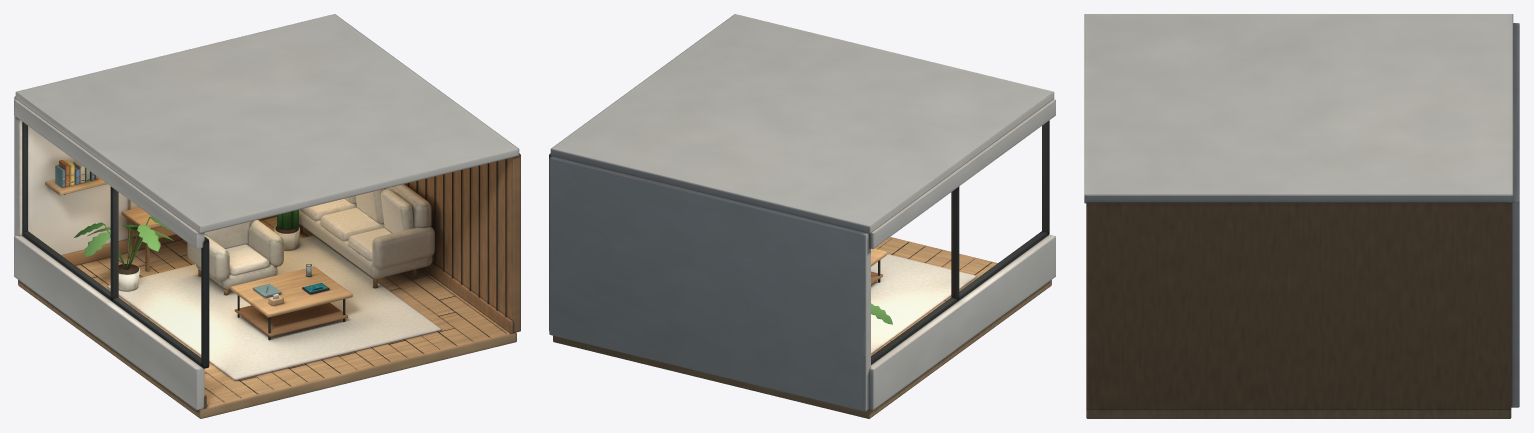
Rendered from consultorio.glb.
3 renders of one model, left to right at view 1: azimuth 30°, elevation 25°; view 2: azimuth 150°, elevation 25°; view 3: azimuth 270°, elevation 25°, orthographic. The views are drawn at different scales.
Parts seen in each view (by area): view 1: Techo - marfil, Alfombra central, Suelo - roble, Pared derecha - madera, Ventanal - antepecho, Pared posterior - marfil, Ventanal - perfileria negra, Ventanal - dintel, Mesa - sobre, Rodapies - roble, Pared derecha - juntas verticales, Sofa - brazo (+19 smaller); view 2: Techo - marfil, Pared posterior - marfil, Ventanal - antepecho, Suelo - roble, Alfombra central, Ventanal - perfileria negra, Ventanal - dintel; view 3: Pared derecha - madera, Techo - marfil, Suelo - roble, Pared posterior - marfil.
Part boxes in pixels (x1,y1,x2,y2): Techo - marfil: [15, 14, 519, 233]; Alfombra central: [107, 235, 441, 380]; Suelo - roble: [18, 216, 516, 418]; Pared derecha - madera: [404, 153, 520, 332]; Ventanal - antepecho: [14, 235, 204, 410]; Pared posterior - marfil: [14, 96, 137, 255]; Ventanal - perfileria negra: [22, 122, 209, 368]; Ventanal - dintel: [14, 99, 204, 248]; Mesa - sobre: [230, 266, 352, 317]; Rodapies - roble: [61, 215, 513, 408]; Pared derecha - juntas verticales: [407, 159, 506, 316]; Sofa - brazo: [372, 226, 434, 268]; Techo - marfil: [550, 14, 1054, 233]; Pared posterior - marfil: [549, 156, 870, 411]; Ventanal - antepecho: [869, 234, 1055, 410]; Suelo - roble: [553, 237, 1051, 418]; Alfombra central: [871, 254, 976, 354]; Ventanal - perfileria negra: [871, 120, 1049, 364]; Ventanal - dintel: [869, 99, 1055, 248]; Pared derecha - madera: [1086, 203, 1511, 409]; Techo - marfil: [1084, 14, 1513, 203]; Suelo - roble: [1086, 410, 1511, 418]; Pared posterior - marfil: [1511, 23, 1519, 407].
Size of the model in its own units: 5.48 by 3.13 by 5.48.
1 material, 1 textured.
